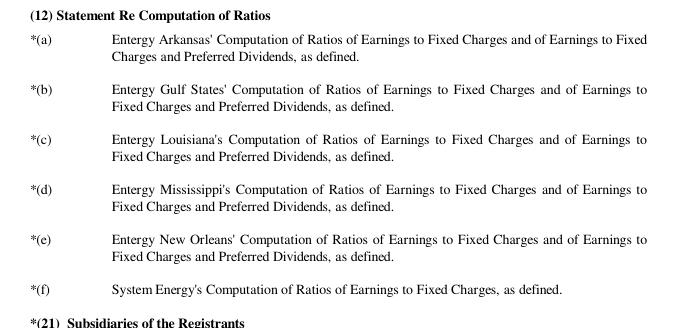table: (28, 28, 646, 297)
table column: (81, 28, 646, 297), (28, 28, 81, 297)
table row: (28, 71, 646, 121), (28, 121, 646, 171), (28, 171, 646, 221), (28, 221, 646, 271), (28, 28, 646, 71), (28, 271, 646, 297)
